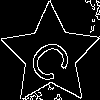C: (25, 30, 81, 87)
